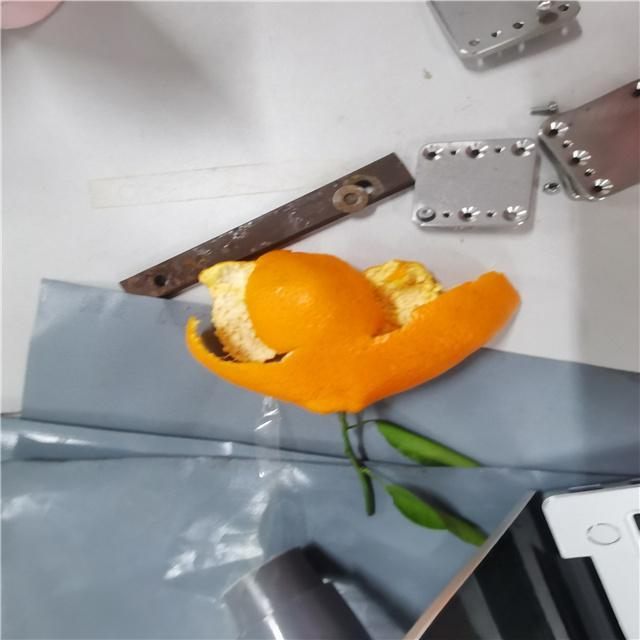orange-peel: (183, 248, 521, 415)
